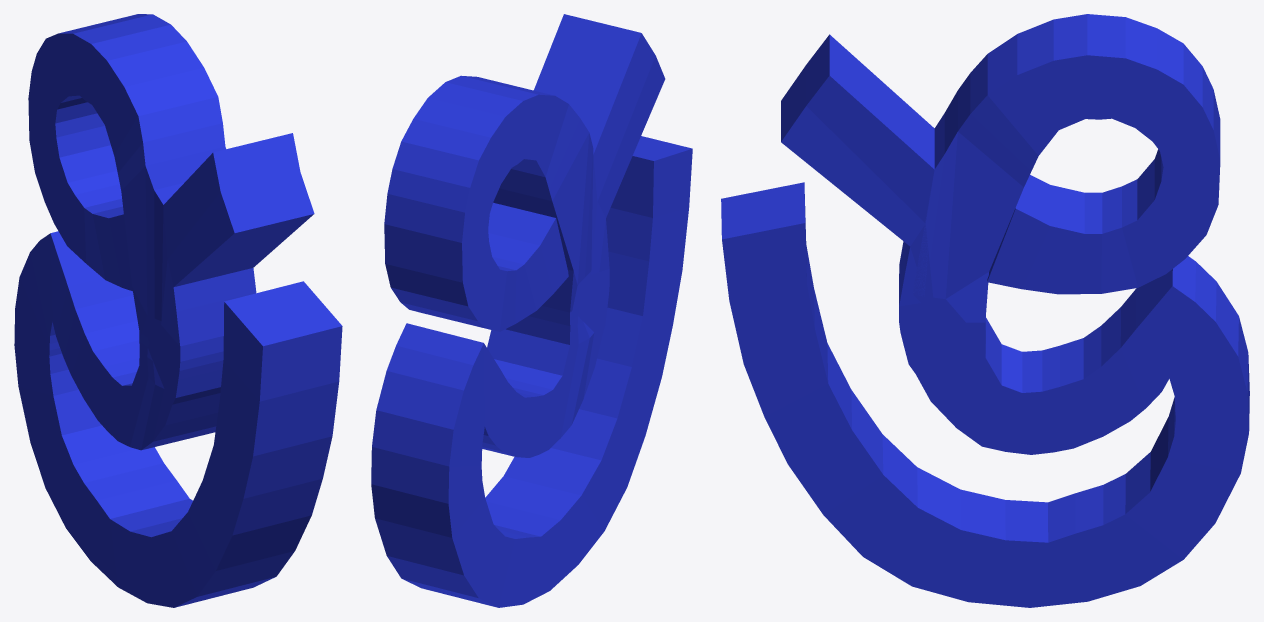
3 renders of one model, left to right at view 1: azimuth 30°, elevation 25°; view 2: azimuth 150°, elevation 25°; view 3: azimuth 270°, elevation 25°, orthographic. The views are drawn at different scales.
Parts seen in each view (by area): view 1: Cube.001; view 2: Cube.001; view 3: Cube.001.
Part boxes in pixels (bbox=[...]): Cube.001: bbox=[14, 14, 342, 607]; Cube.001: bbox=[371, 14, 692, 607]; Cube.001: bbox=[721, 14, 1249, 607].
Bounding box in the file's own units: 289 × 1638 × 1417.
